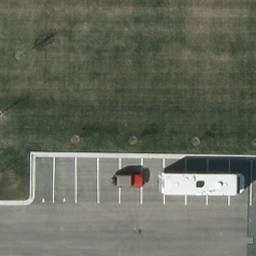camping car: (159, 172, 244, 197)
car: (112, 174, 147, 190)
